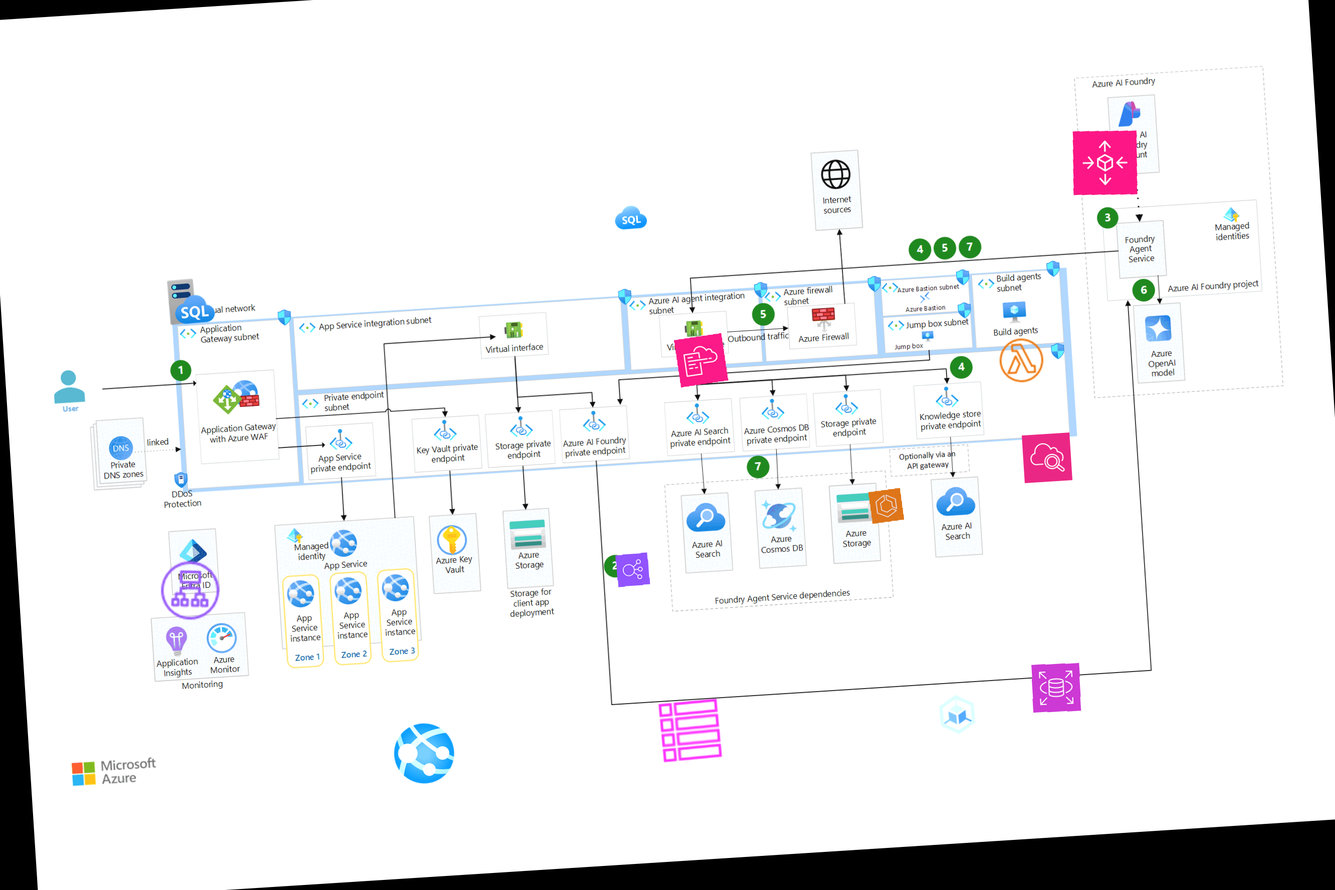aws_amazon_cloudwatch: (1021, 432, 1073, 484)
aws_amazon_elastic_container_service: (867, 487, 905, 524)
aws_amazon_rds: (1030, 661, 1082, 714)
aws_auto_scaling: (1069, 127, 1141, 198)
aws_cloudformation: (674, 333, 728, 387)
aws_dynamodb_table: (655, 696, 725, 765)
aws_elastic_load_balancing: (615, 552, 650, 587)
aws_elastic_load_balancing_application_load_balancer: (153, 553, 227, 627)
aws_lambda_lambda_function: (995, 334, 1047, 386)
azure_app_services: (390, 719, 458, 787)
azure_sql: (613, 200, 648, 235)
azure_sql_managed_instance: (164, 275, 217, 327)
gcp_google_kubernetes_engine: (931, 688, 983, 741)
